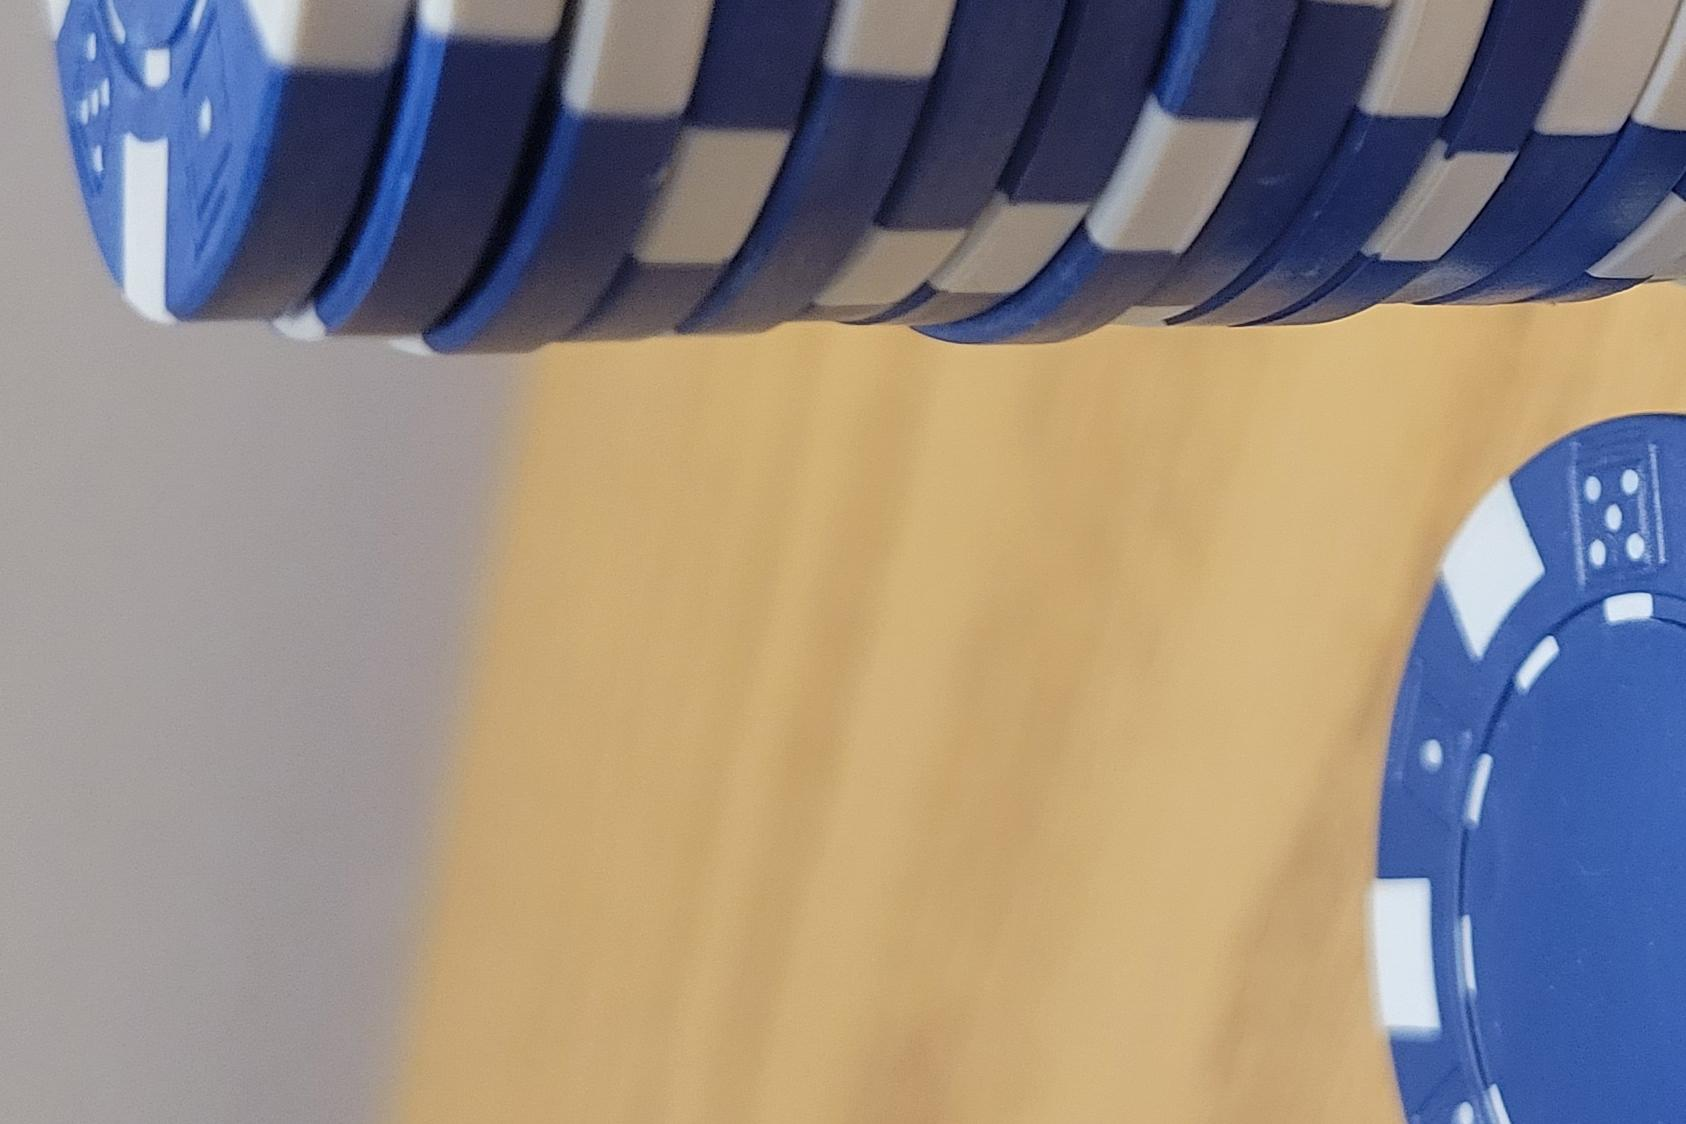Chip: (1, 400, 1184, 1124)
